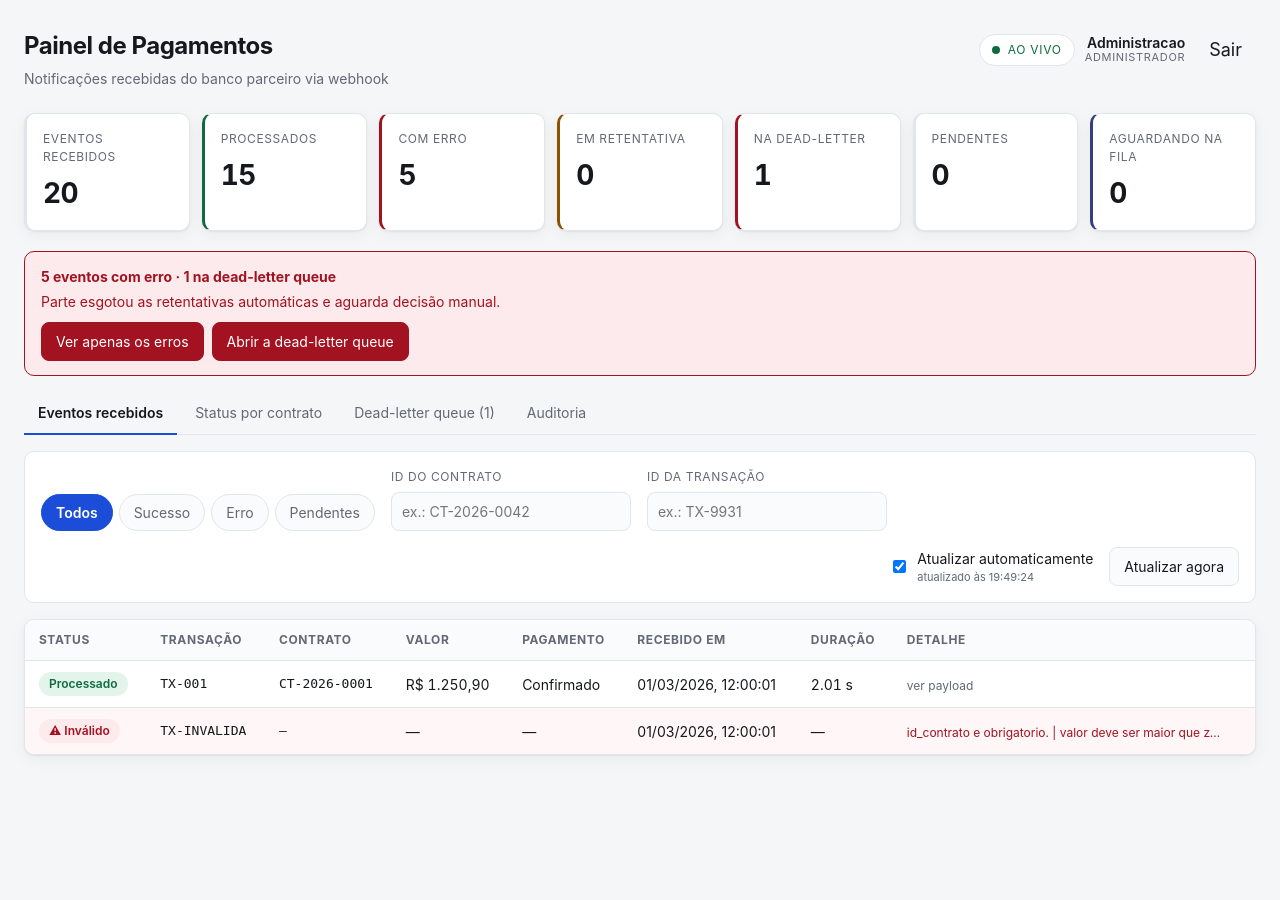
Test case: App › o atalho do alerta abre a dead-letter queue
Expected: the heading "Painel de Pagamentos" is shown, [24, 31, 273, 60]
Click the button "Abrir a dead-letter queue" at x=310, y=342, box [212, 322, 409, 361]
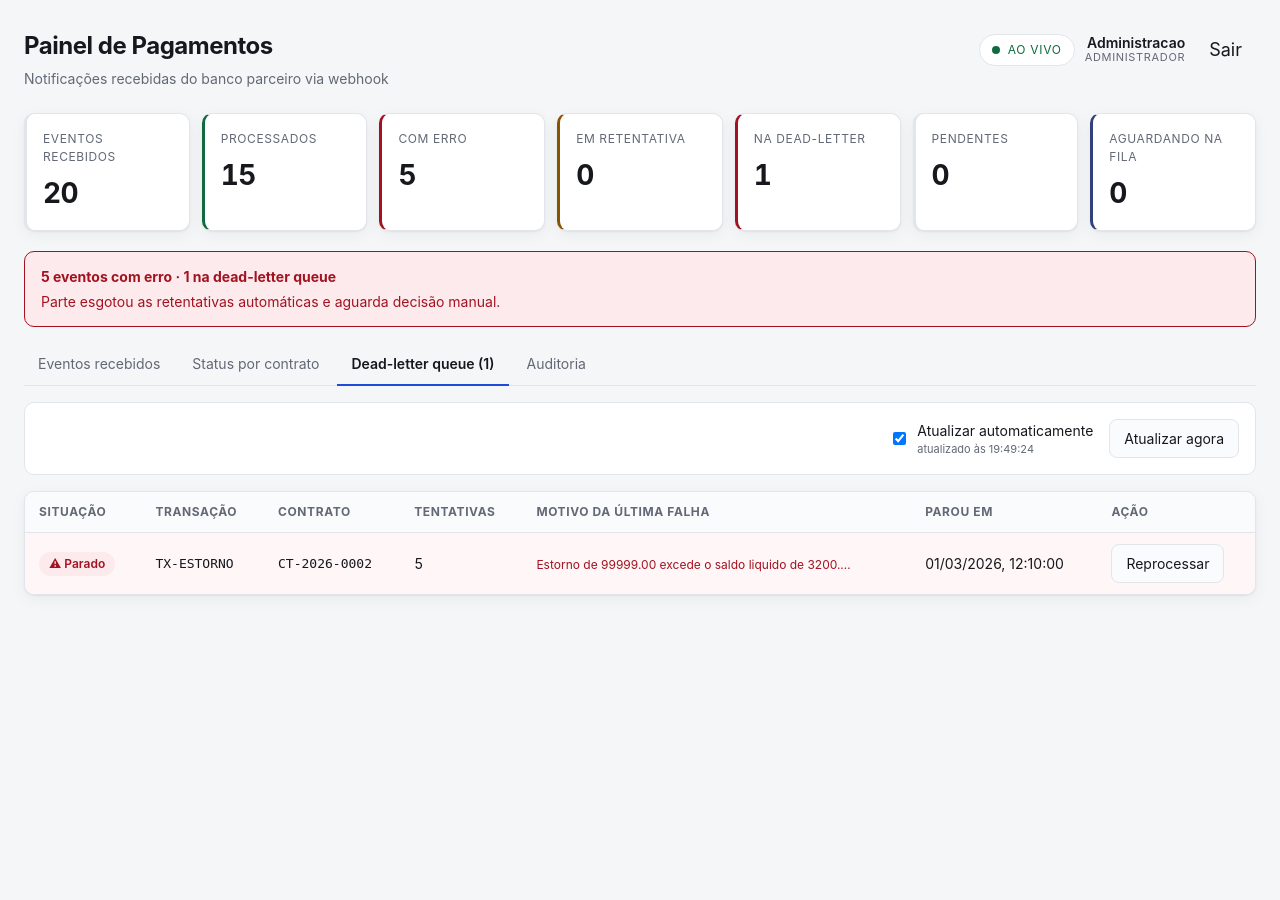
Expected: the text "TX-ESTORNO" is shown, [141, 532, 264, 594]
